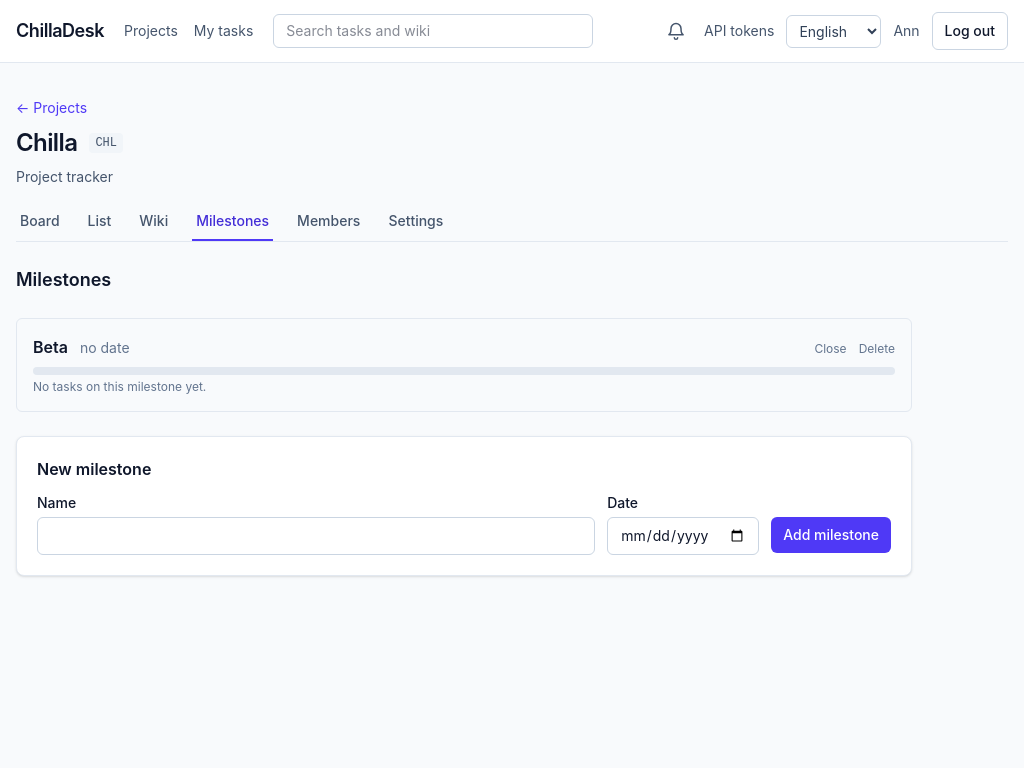
Test: the milestones page › closes, reopens and deletes a milestone after asking
The image size is (1024, 768).
Click the button with aria-label "Close the milestone Beta". click: (830, 349)
box: [814,341,847,357]
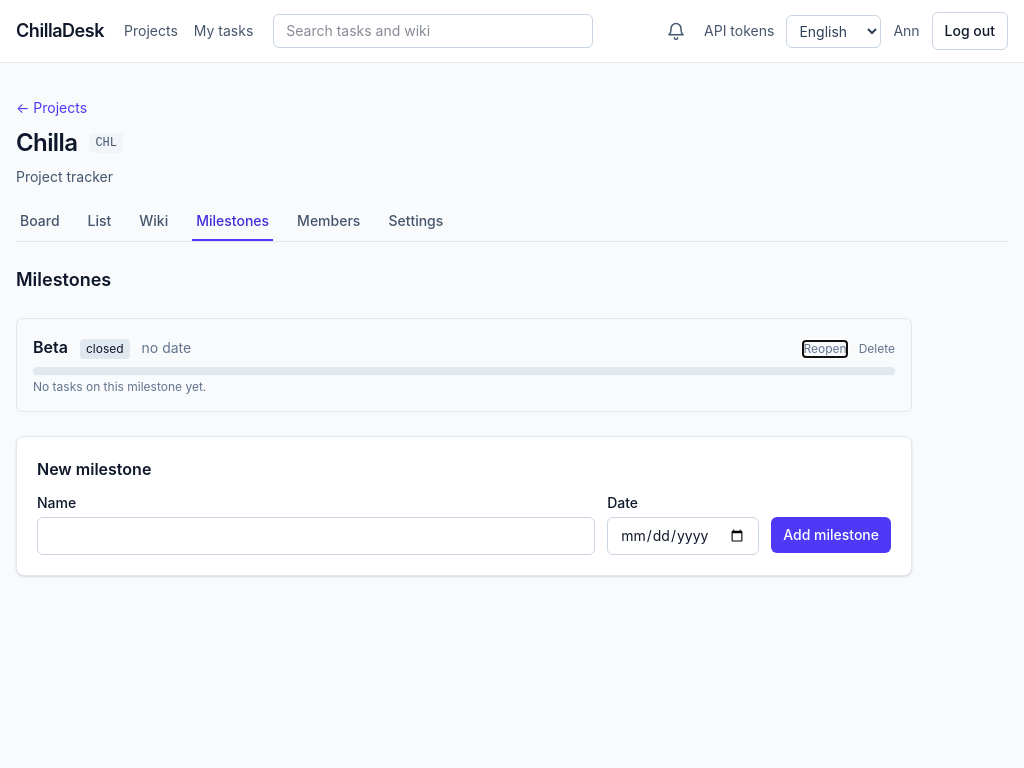
Check: the button with aria-label "Reopen the milestone Beta" is shown, box [804,341,847,357]
Click the button with aria-label "Delete the milestone Beta". click: (877, 349)
box: [859,341,895,357]
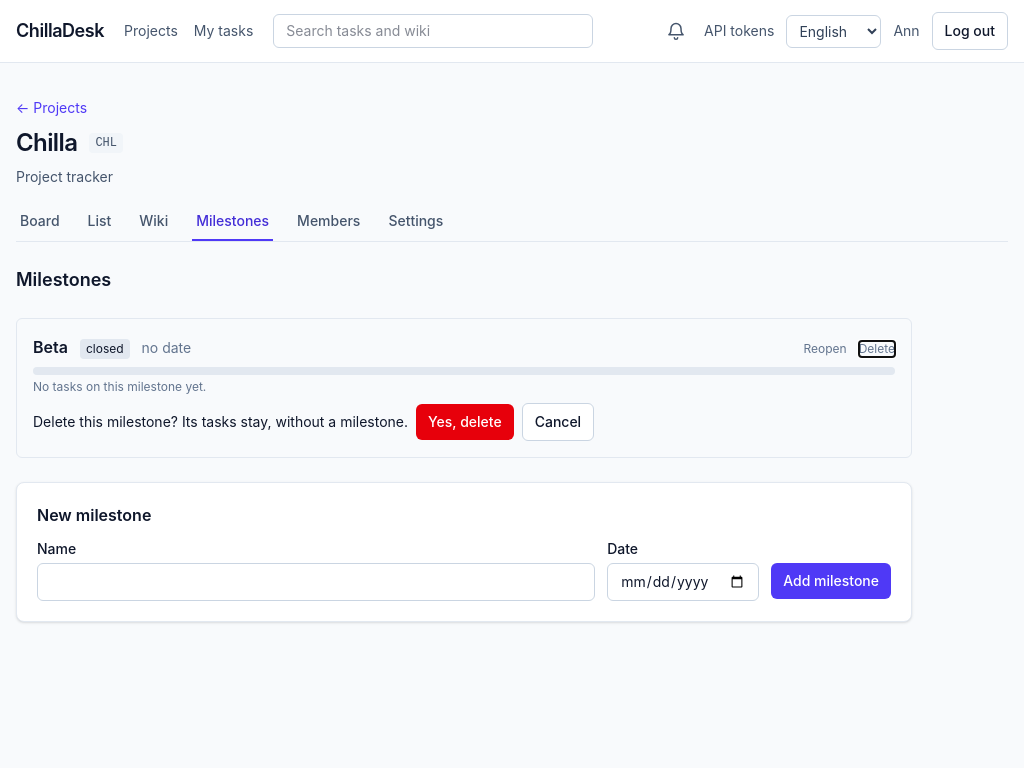
Check: the text "Delete this milestone? Its tasks stay, without a milestone." is shown, box [33,412,408,432]
Click the button "Yes, delete". click: (465, 422)
box: [416,404,514,440]
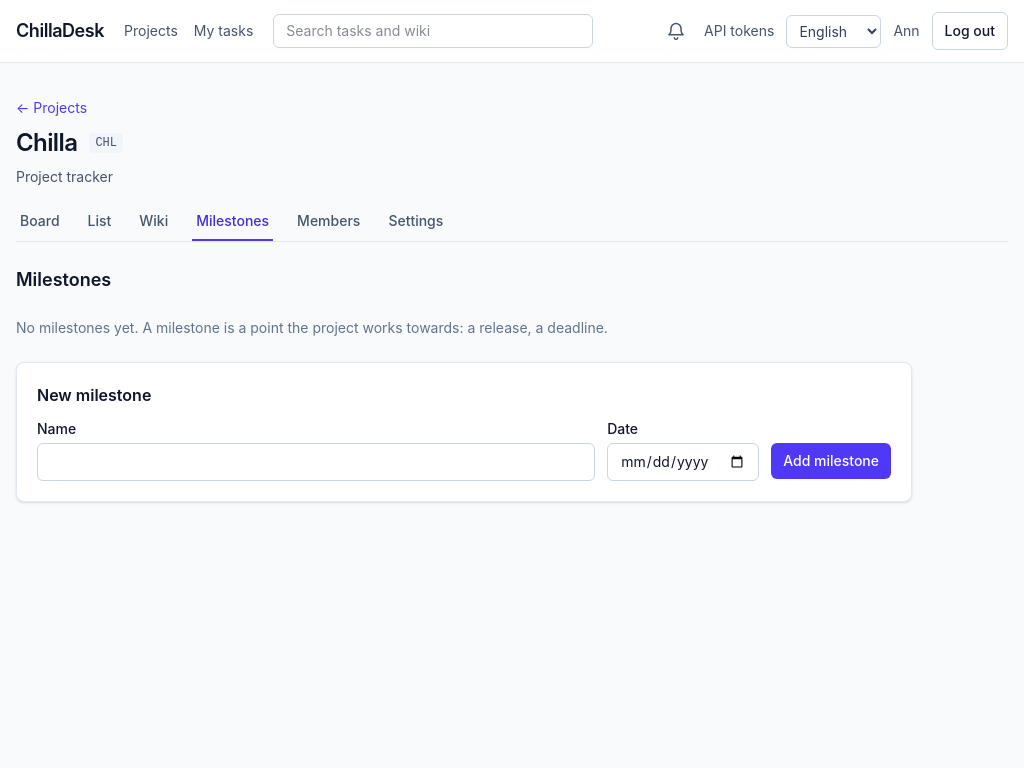
Check: the link "Beta" is gone
